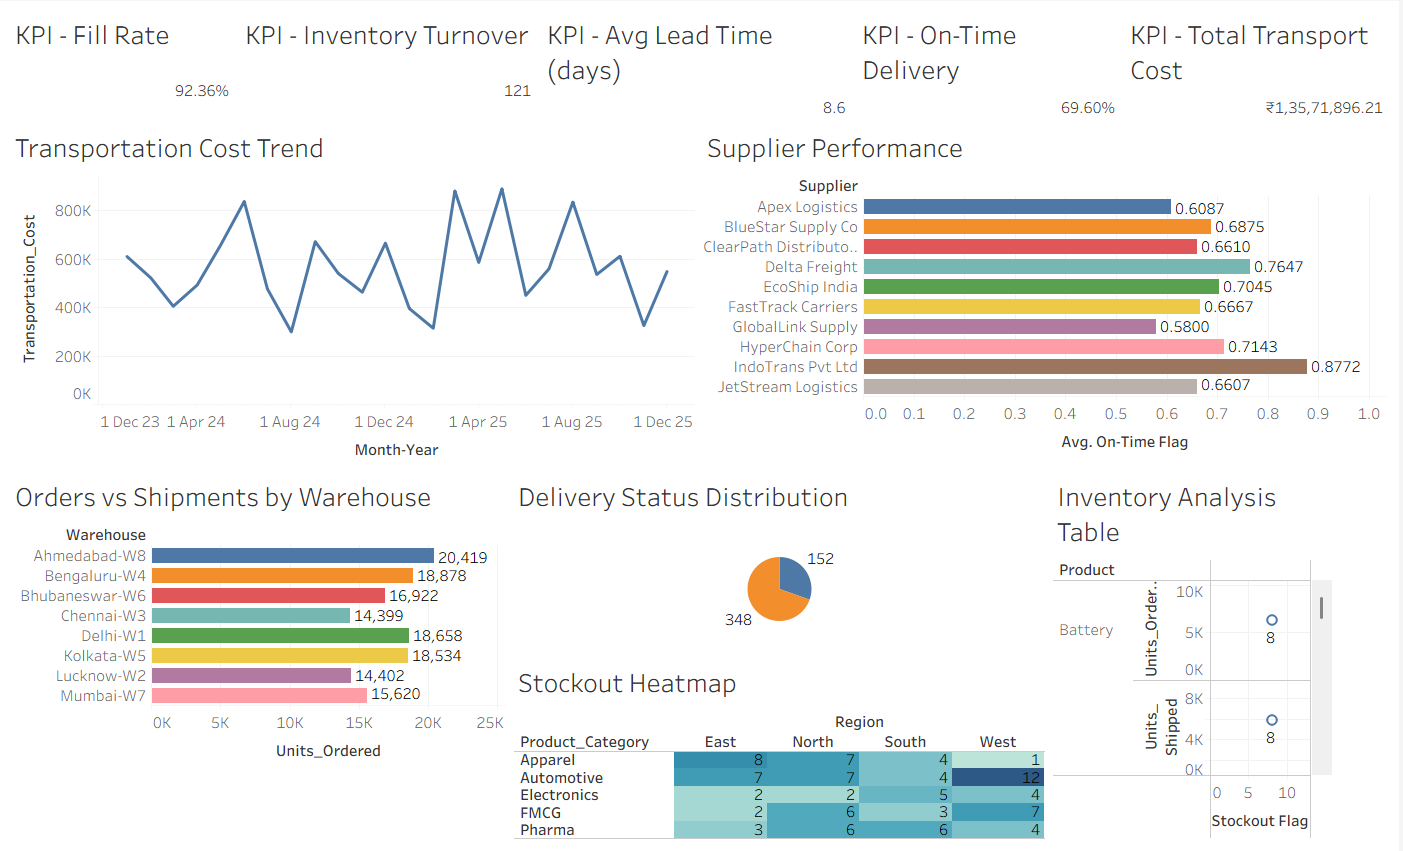

The dashboard page shown, as its layout file describes it:
{"tool":"tableau","page":{"name":"Dashboard","canvas":[1400,850],"ordinal":0},"visuals":[{"type":"worksheet","title":"KPI - Fill Rate","mark":"Automatic","box":[8,8,230,113]},{"type":"worksheet","title":"KPI - Inventory Turnover","mark":"Automatic","box":[238,8,302,113]},{"type":"worksheet","title":"KPI - Avg Lead Time (days)","mark":"Automatic","box":[540,8,315,113]},{"type":"worksheet","title":"KPI - On-Time Delivery","mark":"Automatic","box":[855,8,268.5,113]},{"type":"worksheet","title":"KPI - Total Transport Cost","mark":"Automatic","box":[1123.5,8,268.5,113]},{"type":"worksheet","title":"Transportation Cost Trend","mark":"Line","rows":["Transportation_Cost"],"cols":["Month-Year"],"box":[8,121,692,349]},{"type":"worksheet","title":"Supplier Performance","mark":"Bar","rows":["Supplier"],"cols":["On-Time Flag"],"box":[700,121,692,349]},{"type":"worksheet","title":"Orders vs Shipments by Warehouse","mark":"Bar","rows":["Warehouse"],"cols":["Units_Ordered"],"box":[8,470,503,372]},{"type":"worksheet","title":"Delivery Status Distribution","mark":"Pie","box":[511,470,539,186]},{"type":"worksheet","title":"Inventory Analysis Table","mark":"Automatic","rows":["Product","Units_Ordered","Units_Shipped","Inventory_On_Hand"],"cols":["Stockout Flag"],"box":[1050,470,342,372]},{"type":"worksheet","title":"Stockout Heatmap","mark":"Square","rows":["Product_Category"],"cols":["Region"],"box":[511,656,539,186]}]}

Visuals, with their boxes in screenshot pixels (x1, y1, x2, y2), scaled from the page's 1400x850 canvas onto the 1403x851 screenshot:
"KPI - Fill Rate" worksheet: Rect(8, 8, 239, 121)
"KPI - Inventory Turnover" worksheet: Rect(239, 8, 541, 121)
"KPI - Avg Lead Time (days)" worksheet: Rect(541, 8, 857, 121)
"KPI - On-Time Delivery" worksheet: Rect(857, 8, 1126, 121)
"KPI - Total Transport Cost" worksheet: Rect(1126, 8, 1395, 121)
"Transportation Cost Trend" worksheet (Line marks): Rect(8, 121, 702, 471)
"Supplier Performance" worksheet (Bar marks): Rect(702, 121, 1395, 471)
"Orders vs Shipments by Warehouse" worksheet (Bar marks): Rect(8, 471, 512, 843)
"Delivery Status Distribution" worksheet (Pie marks): Rect(512, 471, 1052, 657)
"Inventory Analysis Table" worksheet: Rect(1052, 471, 1395, 843)
"Stockout Heatmap" worksheet (Square marks): Rect(512, 657, 1052, 843)
